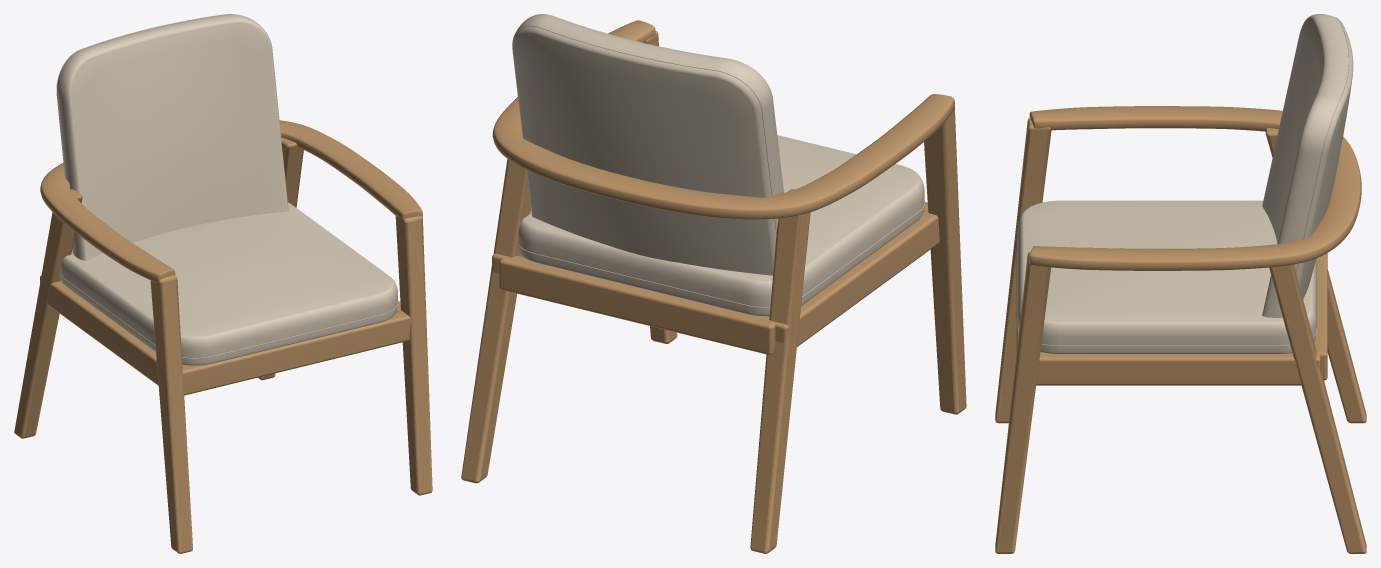
Rendered from chair-s05118-v1.glb.
3 renders of one model, left to right at view 1: azimuth 30°, elevation 25°; view 2: azimuth 150°, elevation 25°; view 3: azimuth 270°, elevation 25°, orthographic. The views are drawn at different scales.
Visible parts, largest first — view 1: back-cushion, seat-cushion, wraparound-arm, front-leg--1, front-leg-1, seat-front-rail, rear-leg--1, seat-side--1, rear-leg-1; view 2: back-cushion, seat-cushion, wraparound-arm, seat-back-rail, rear-leg--1, front-leg--1, rear-leg-1, seat-side--1; view 3: seat-cushion, wraparound-arm, back-cushion, seat-side-1, rear-leg-1, front-leg-1, front-leg--1, rear-leg--1, seat-back-rail, seat-piping.
Boxes of the visible parts, left/top/right/bottom form: back-cushion: left=57, top=14, right=288, bottom=260; seat-cushion: left=60, top=202, right=397, bottom=365; wraparound-arm: left=40, top=120, right=422, bottom=282; front-leg--1: left=150, top=274, right=192, bottom=553; front-leg-1: left=395, top=214, right=432, bottom=495; seat-front-rail: left=182, top=311, right=410, bottom=395; rear-leg--1: left=14, top=189, right=82, bottom=438; seat-side--1: left=40, top=275, right=158, bottom=385; rear-leg-1: left=258, top=138, right=303, bottom=380; back-cushion: left=512, top=14, right=783, bottom=275; seat-cushion: left=518, top=135, right=924, bottom=316; wraparound-arm: left=492, top=20, right=954, bottom=219; seat-back-rail: left=499, top=255, right=775, bottom=355; rear-leg--1: left=750, top=189, right=810, bottom=553; front-leg--1: left=924, top=107, right=966, bottom=414; rear-leg-1: left=461, top=159, right=530, bottom=483; seat-side--1: left=774, top=210, right=939, bottom=346; seat-cushion: left=1017, top=200, right=1316, bottom=353; wraparound-arm: left=1029, top=106, right=1361, bottom=270; back-cushion: left=1262, top=14, right=1353, bottom=317; seat-side-1: left=1036, top=352, right=1320, bottom=385; rear-leg-1: left=1269, top=264, right=1366, bottom=553; front-leg-1: left=995, top=251, right=1050, bottom=553; front-leg--1: left=995, top=118, right=1051, bottom=423; rear-leg--1: left=1265, top=128, right=1366, bottom=423; seat-back-rail: left=1314, top=253, right=1327, bottom=380; seat-piping: left=1017, top=237, right=1316, bottom=346.
Size of the model in its own units: 0.66 by 0.84 by 0.66.
